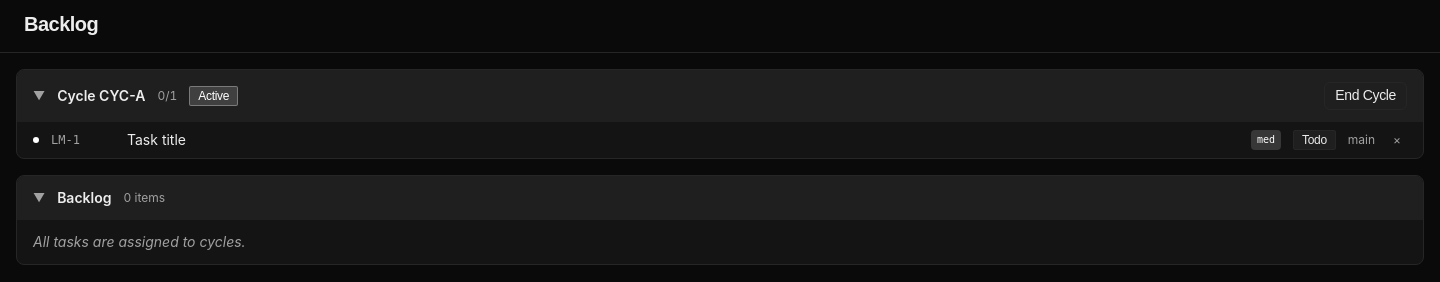
BacklogView (sprint sections, web-parity) › collapses a cycle section when its toggle is clicked
Expected: the element with test id "backlog-section-list-CYC-A" is shown, [33,130,1407,150]
Click the button with test id "backlog-section-toggle-CYC-A": point(101, 96) [33,86,1312,106]
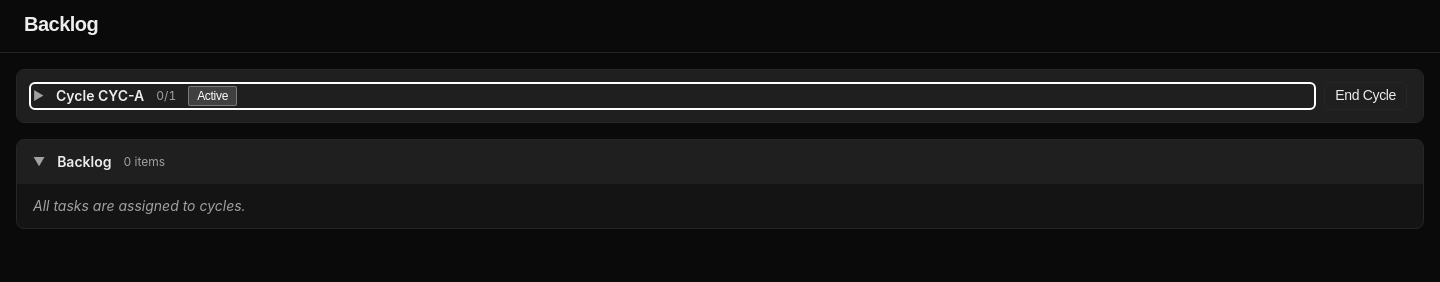
Now the element with test id "backlog-section-list-CYC-A" is gone
Now the button with test id "backlog-section-toggle-CYC-A" is collapsed, box [33,86,1312,106]
